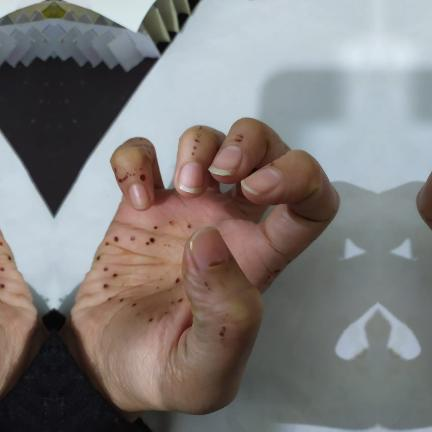Nail: (189, 226, 229, 270), (240, 168, 282, 195), (208, 146, 243, 176), (178, 162, 204, 194), (128, 183, 151, 209)
